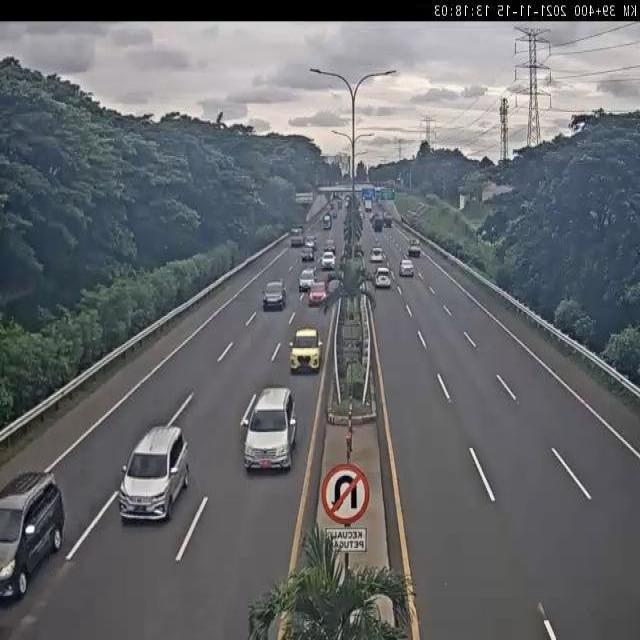Car: (0, 472, 65, 600), (119, 425, 192, 522), (241, 384, 299, 470), (288, 326, 324, 374), (262, 280, 287, 310), (308, 281, 328, 307), (299, 268, 316, 292), (374, 267, 392, 288), (321, 250, 336, 270), (399, 259, 414, 278), (369, 248, 384, 264), (408, 240, 421, 257)
